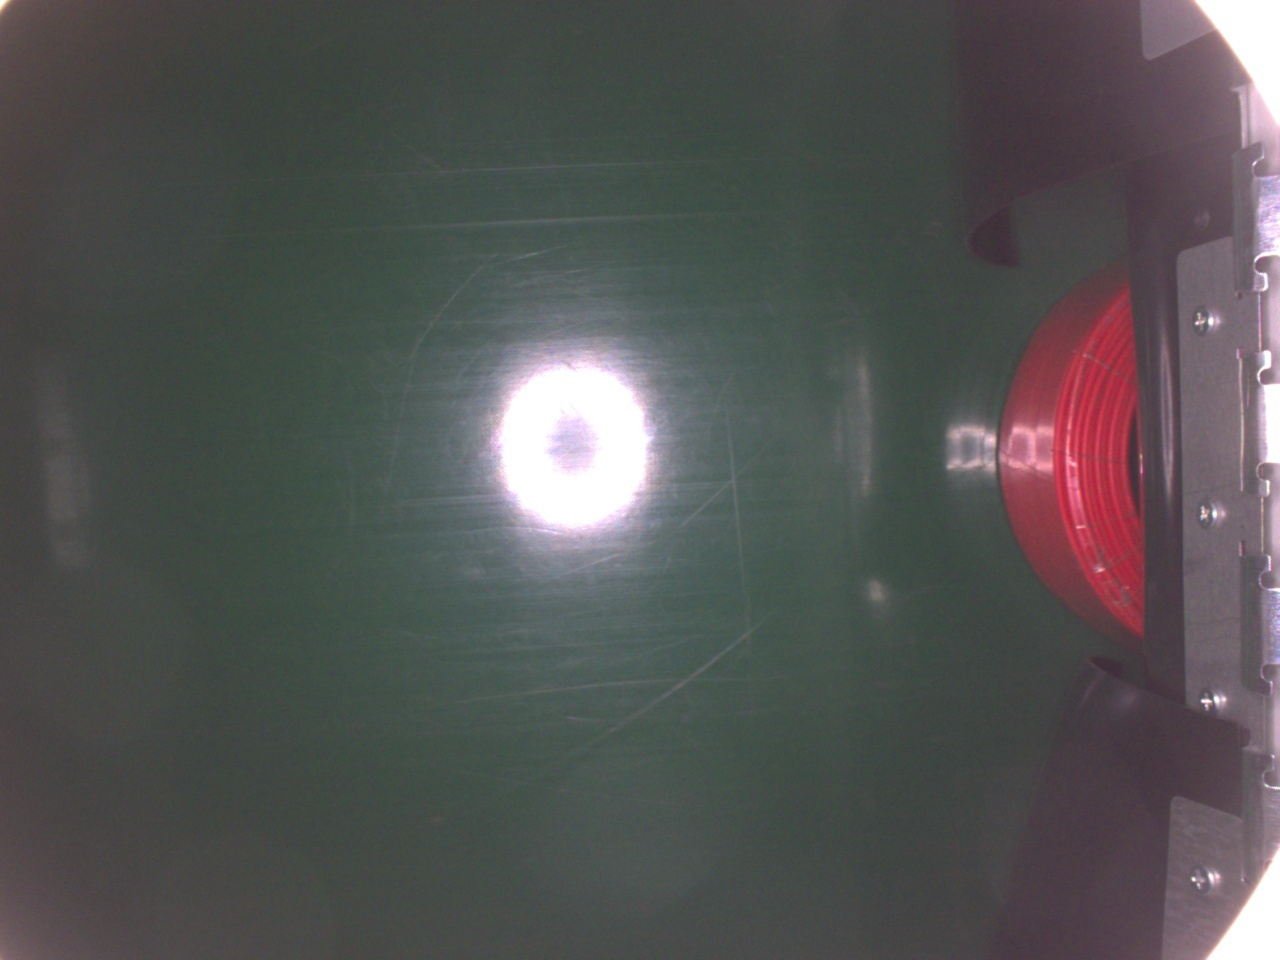red: (998, 255, 1152, 649)
